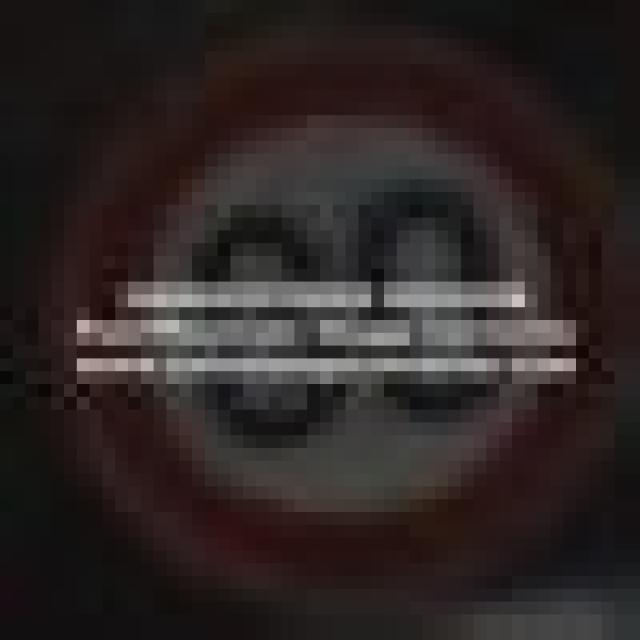speed_limit_50: (51, 38, 627, 576)
